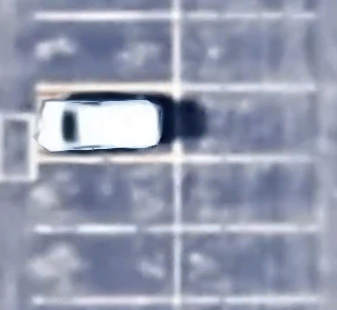Occupied: (34, 88, 176, 158)
Vacant: (35, 14, 176, 88), (32, 230, 177, 301), (34, 158, 177, 229), (176, 14, 313, 88), (176, 229, 315, 301), (176, 158, 314, 230), (176, 89, 312, 160)
